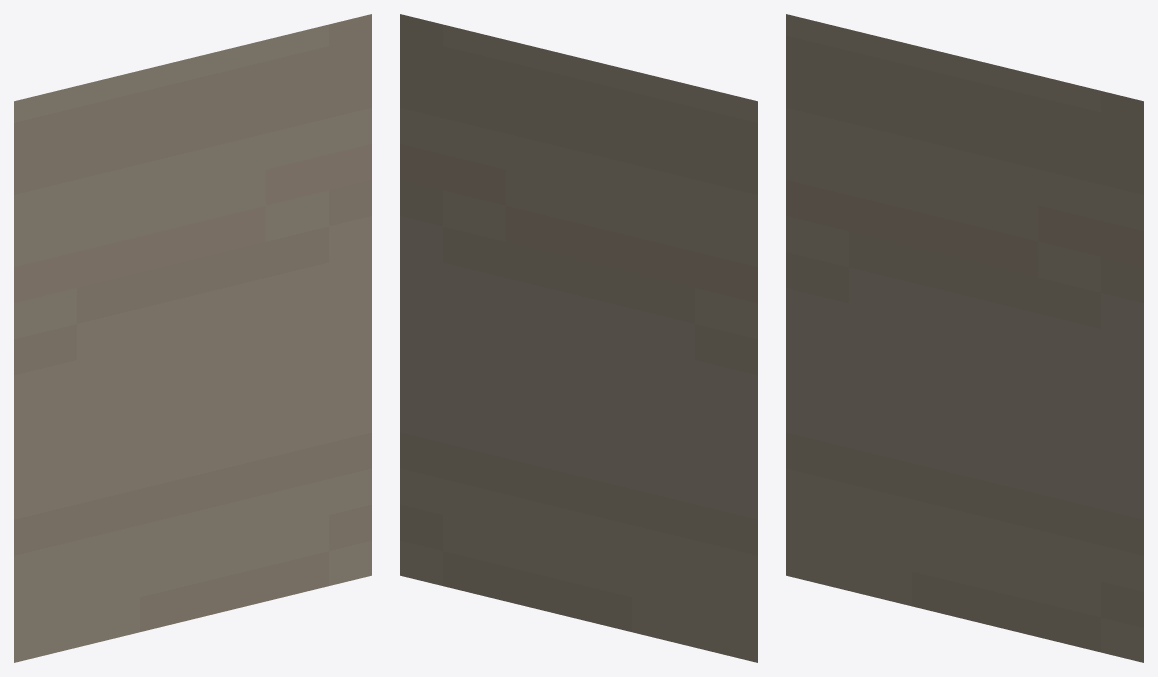
Rendered from kd_stage_135b75_4_40_bounded_portal_piece_1.glb.
The picture shows the model from 3 angles, left to right: view 1: azimuth 30°, elevation 25°; view 2: azimuth 150°, elevation 25°; view 3: azimuth 330°, elevation 25°; orthographic projection.
Visible parts, largest first — view 1: kd_stage_135b75_4_40_bounded_portal_piece_1; view 2: kd_stage_135b75_4_40_bounded_portal_piece_1; view 3: kd_stage_135b75_4_40_bounded_portal_piece_1.
Boxes of the visible parts, x1,y1,x2,y2 form: kd_stage_135b75_4_40_bounded_portal_piece_1: (14, 14, 371, 662); kd_stage_135b75_4_40_bounded_portal_piece_1: (400, 14, 757, 662); kd_stage_135b75_4_40_bounded_portal_piece_1: (786, 14, 1143, 662).
Bounding box in the file's own units: 0.02 × 0.03 × 1.19e-07.
Materials: 1 (1 with a texture image).
